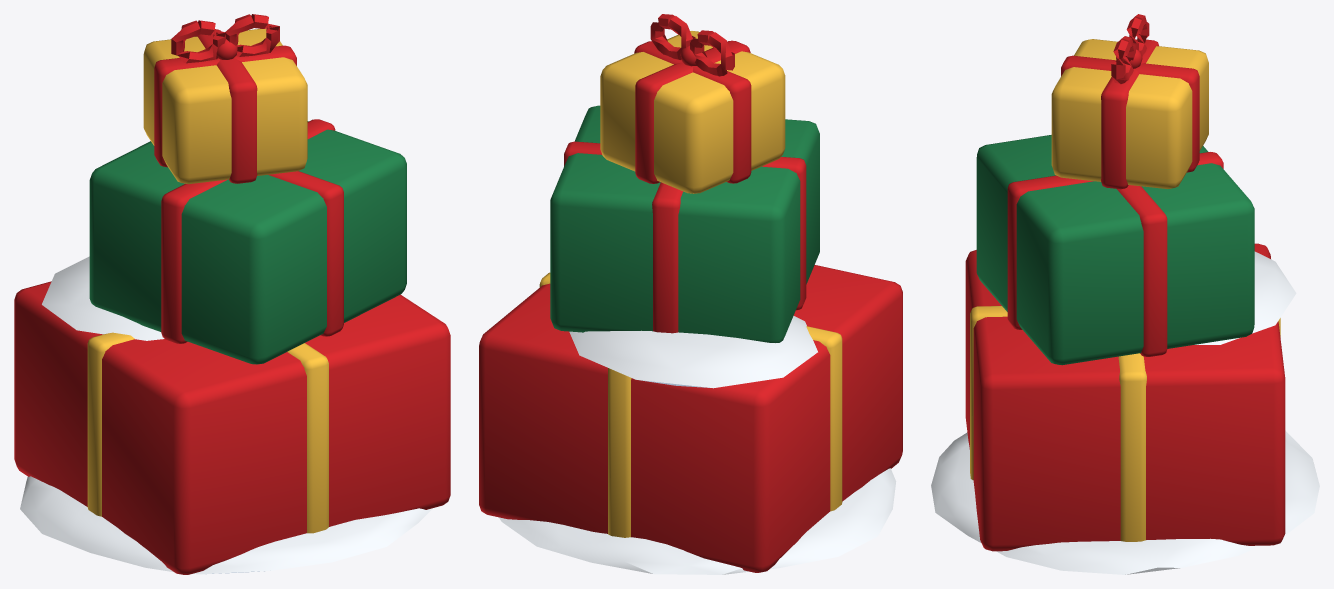
File: GiftStackA.fbx
3 views of the same model, side by side, from view 1: azimuth 30°, elevation 25°; view 2: azimuth 150°, elevation 25°; view 3: azimuth 270°, elevation 25° (orthographic). The views are drawn at different scales.
Parts seen in each view (by area): view 1: GiftStackA; view 2: GiftStackA; view 3: GiftStackA.
Part boxes in pixels (bbox=[...]): GiftStackA: bbox=[14, 14, 450, 574]; GiftStackA: bbox=[479, 14, 902, 574]; GiftStackA: bbox=[931, 14, 1319, 574].
Size of the model in its own units: 1.73 by 2.07 by 1.59.
1 material, 1 textured.
